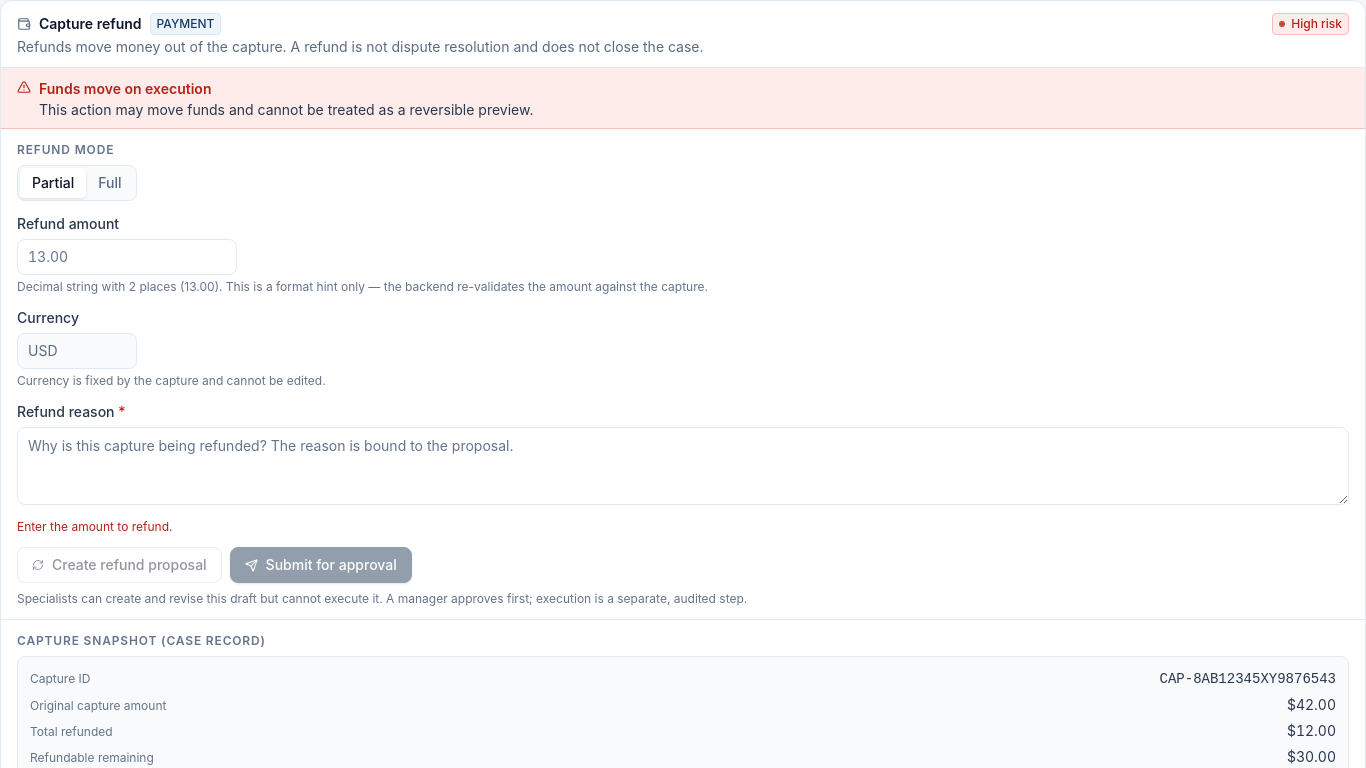
Test: refund — amount rules › disables the draft above the refundable remaining balance
The width and height of the screenshot is (1366, 768).
In the field labelled "Refund amount": (127, 257) [17, 239, 237, 275], type "30.01"
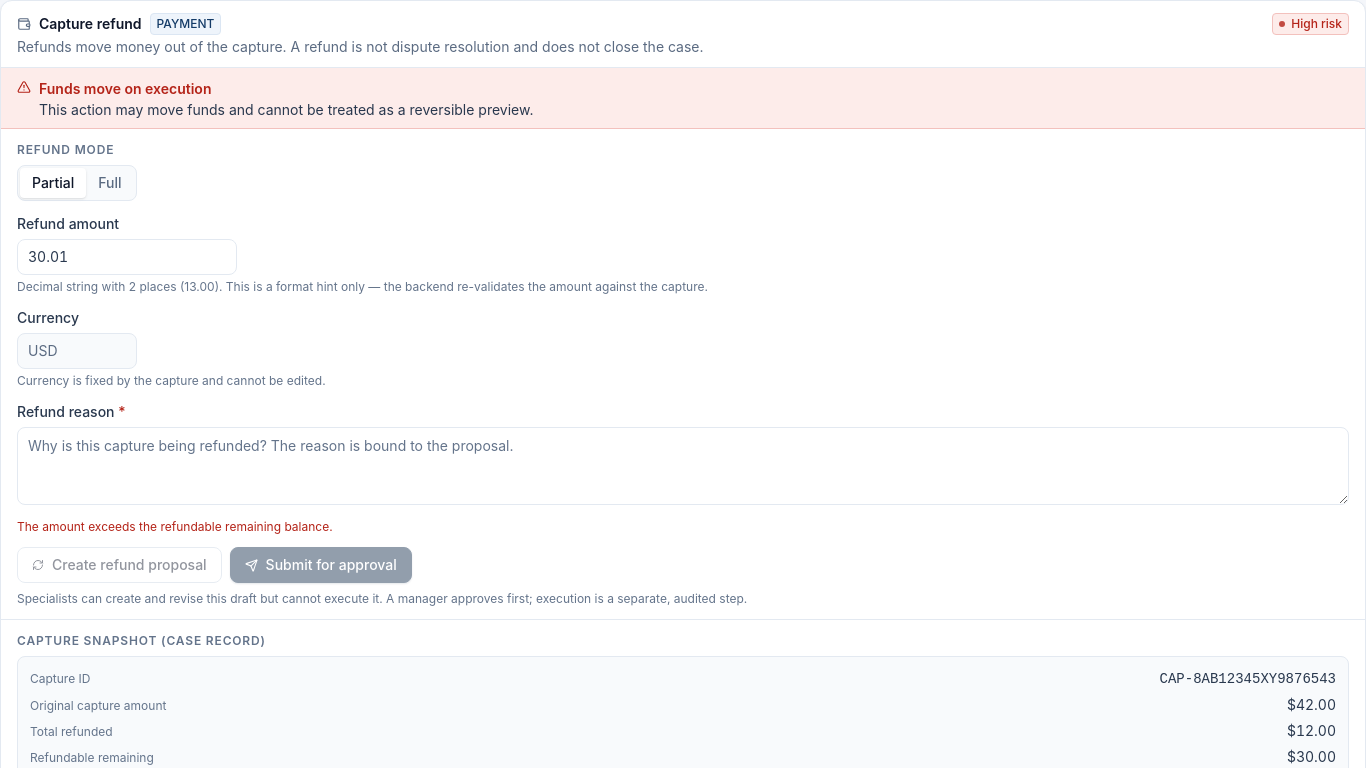
Expected: the button "Create refund proposal" is disabled, [17, 547, 222, 583]
Result: the text "The amount exceeds the refundable remaining balance." is shown at [17, 519, 333, 534]
